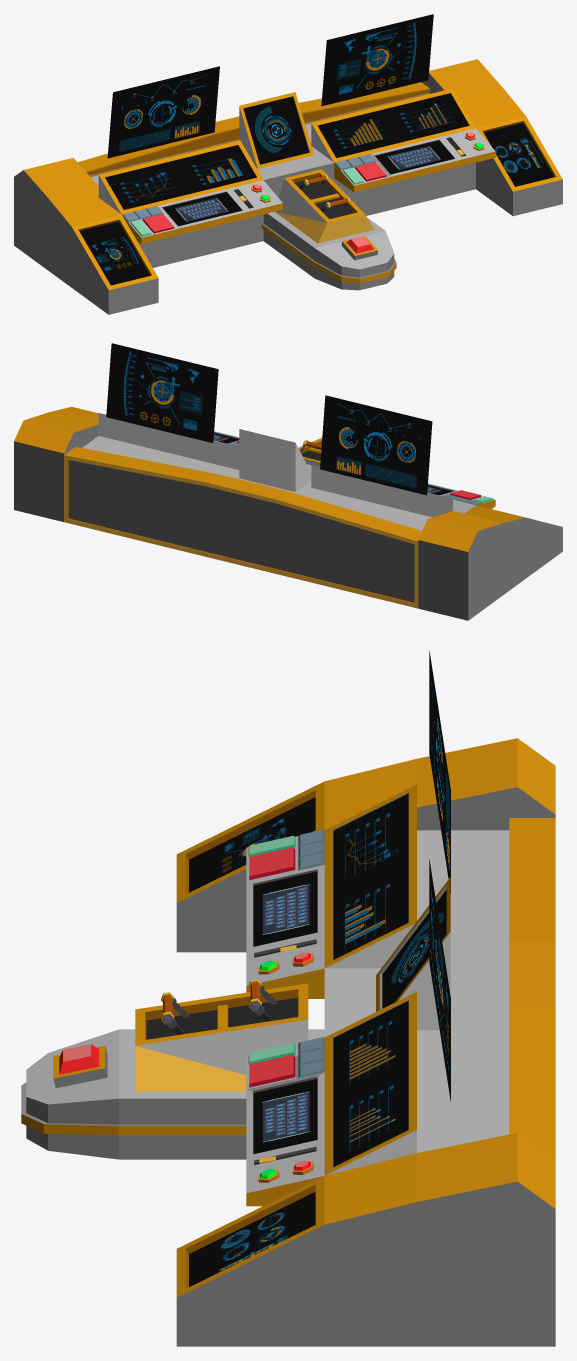
The model's file is CommandControl_01.glb.
3 views of the same model, one above another, from view 1: azimuth 30°, elevation 25°; view 2: azimuth 150°, elevation 25°; view 3: azimuth 270°, elevation 25° (orthographic). The views are drawn at different scales.
Parts seen in each view (by area): view 1: CommandControl_01; view 2: CommandControl_01; view 3: CommandControl_01.
Part boxes in pixels (box(x1,y1,x2,y2)): CommandControl_01: box(14, 14, 562, 314); CommandControl_01: box(14, 343, 562, 620); CommandControl_01: box(21, 650, 555, 1346).
Size of what is drawn, in the model's own units: 9.08 by 3.05 by 4.62.
2 materials, 2 textured.
